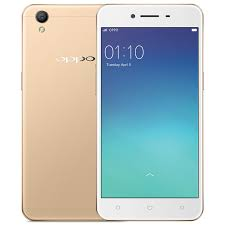oppo: (93, 1, 205, 221), (19, 1, 100, 222)
